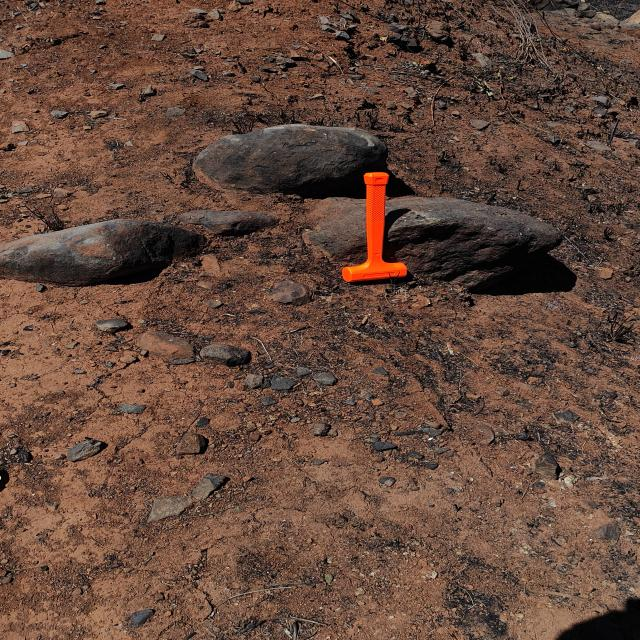Orange_hammer: (340, 171, 408, 283)
